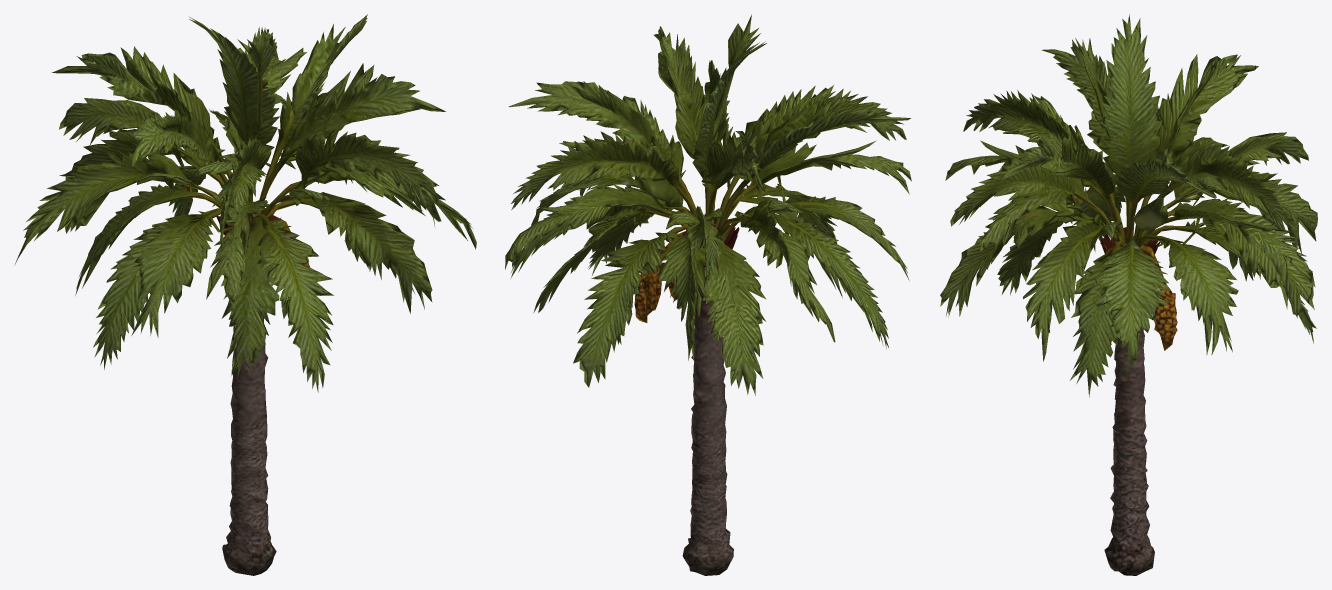
File: palm.glb
3 renders of one model, left to right at view 1: azimuth 30°, elevation 25°; view 2: azimuth 150°, elevation 25°; view 3: azimuth 270°, elevation 25°, orthographic. The views are drawn at different scales.
Parts seen in each view (by area): view 1: tripo_node_ed8ef0e9-7ec3-41e8-8e82-c4a0b6d7cad4; view 2: tripo_node_ed8ef0e9-7ec3-41e8-8e82-c4a0b6d7cad4; view 3: tripo_node_ed8ef0e9-7ec3-41e8-8e82-c4a0b6d7cad4.
Boxes of the visible parts, bbox=[...] form: tripo_node_ed8ef0e9-7ec3-41e8-8e82-c4a0b6d7cad4: bbox=[14, 14, 476, 575]; tripo_node_ed8ef0e9-7ec3-41e8-8e82-c4a0b6d7cad4: bbox=[505, 14, 911, 575]; tripo_node_ed8ef0e9-7ec3-41e8-8e82-c4a0b6d7cad4: bbox=[940, 14, 1317, 575].
Bounding box in the file's own units: 0.6839 × 1 × 0.6488.
Materials: 1 (1 with a texture image).
